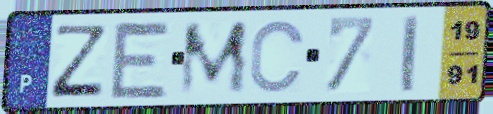7: (325, 15, 377, 97)
C: (246, 18, 308, 96)
E: (107, 19, 174, 101)
I: (400, 12, 421, 95)
M: (176, 18, 251, 98)
Z: (47, 22, 110, 100)
